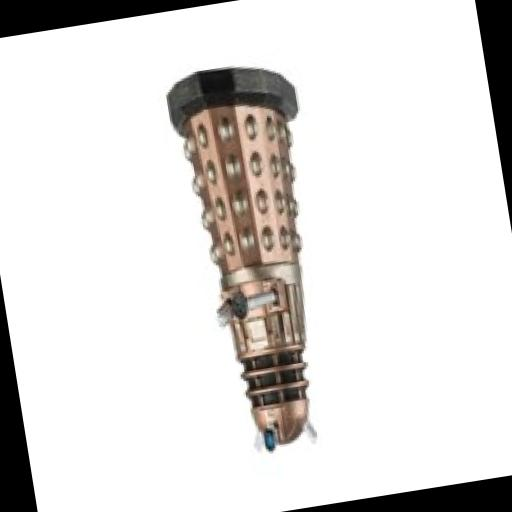dalek: (152, 54, 366, 467)
